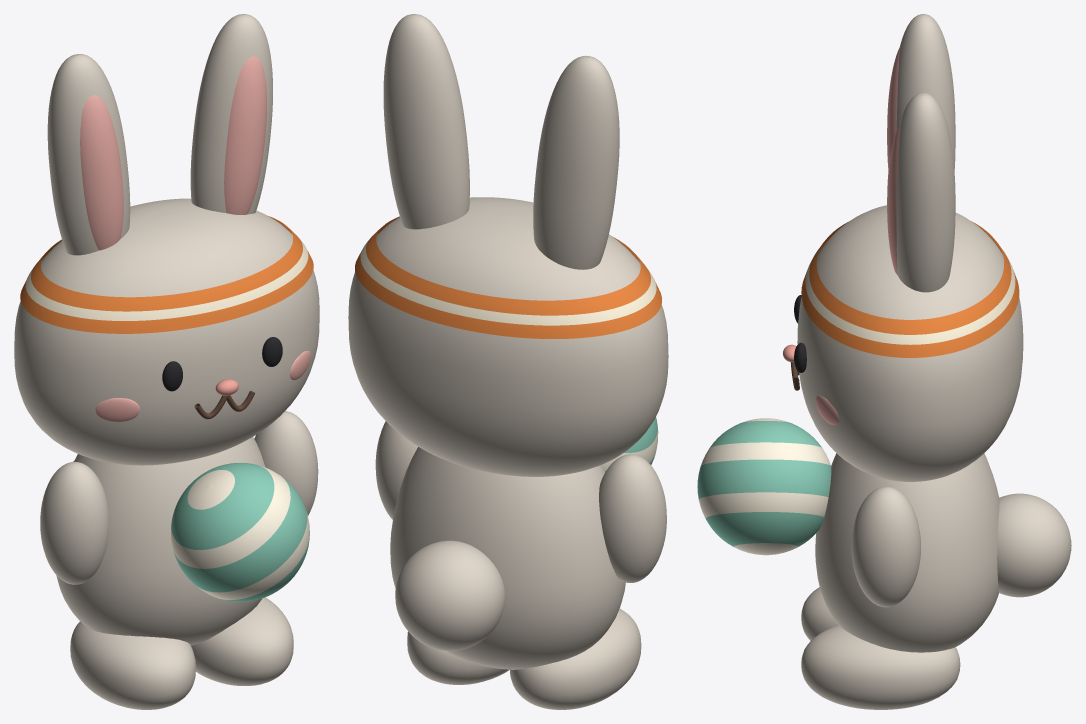
The model's file is athletic-rabbit.glb.
3 renders of one model, left to right at view 1: azimuth 30°, elevation 25°; view 2: azimuth 150°, elevation 25°; view 3: azimuth 270°, elevation 25°, orthographic. The views are drawn at different scales.
Visible parts, largest first — view 1: Rabbit.Head, Rabbit.Body, Rabbit.BallMesh, Rabbit.Headband, Rabbit.EarOuter.R, Rabbit.EarOuter.L, Rabbit.Foot.L, Rabbit.Arm.L, Rabbit.Foot.R, Rabbit.EarInner.L, Rabbit.EarInner.R, Rabbit.Arm.R (+4 smaller); view 2: Rabbit.Head, Rabbit.Body, Rabbit.EarOuter.R, Rabbit.EarOuter.L, Rabbit.Headband, Rabbit.Tail, Rabbit.Arm.L, Rabbit.Foot.L, Rabbit.HeadbandStripe, Rabbit.Foot.R, Rabbit.Arm.R, Rabbit.BallMesh; view 3: Rabbit.Head, Rabbit.Body, Rabbit.BallMesh, Rabbit.EarOuter.R, Rabbit.Foot.R, Rabbit.Headband, Rabbit.Arm.R, Rabbit.Tail, Rabbit.EarOuter.L, Rabbit.HeadbandStripe, Rabbit.EarInner.R, Rabbit.Foot.L (+1 smaller).
Boxes of the visible parts, x1,y1,x2,y2 form: Rabbit.Head: [14, 198, 319, 465]; Rabbit.Body: [56, 437, 265, 645]; Rabbit.BallMesh: [171, 463, 309, 601]; Rabbit.Headband: [20, 216, 313, 333]; Rabbit.EarOuter.R: [190, 14, 272, 214]; Rabbit.EarOuter.L: [47, 54, 130, 255]; Rabbit.Foot.L: [70, 621, 195, 709]; Rabbit.Arm.L: [40, 461, 109, 584]; Rabbit.Foot.R: [191, 597, 293, 685]; Rabbit.EarInner.L: [80, 95, 123, 250]; Rabbit.EarInner.R: [224, 56, 266, 214]; Rabbit.Arm.R: [254, 411, 318, 515]; Rabbit.Head: [348, 197, 668, 476]; Rabbit.Body: [390, 447, 625, 669]; Rabbit.EarOuter.R: [383, 14, 469, 229]; Rabbit.EarOuter.L: [533, 55, 619, 269]; Rabbit.Headband: [355, 216, 661, 338]; Rabbit.Tail: [395, 540, 505, 650]; Rabbit.Arm.L: [599, 454, 666, 582]; Rabbit.Foot.L: [510, 609, 641, 709]; Rabbit.HeadbandStripe: [360, 235, 656, 325]; Rabbit.Foot.R: [407, 631, 509, 684]; Rabbit.Arm.R: [375, 421, 417, 519]; Rabbit.BallMesh: [602, 417, 658, 471]; Rabbit.Head: [797, 205, 1023, 481]; Rabbit.Body: [815, 453, 999, 652]; Rabbit.BallMesh: [697, 418, 831, 555]; Rabbit.EarOuter.R: [896, 92, 955, 292]; Rabbit.Foot.R: [801, 625, 960, 709]; Rabbit.Headband: [801, 221, 1019, 357]; Rabbit.Arm.R: [851, 486, 920, 607]; Rabbit.Tail: [997, 493, 1071, 597]; Rabbit.EarOuter.L: [896, 14, 955, 170]; Rabbit.HeadbandStripe: [805, 249, 1015, 344]; Rabbit.EarInner.R: [887, 124, 899, 274]; Rabbit.Foot.L: [801, 587, 838, 640].
Bounding box in the file's own units: 0.87 × 1.86 × 1.01.
